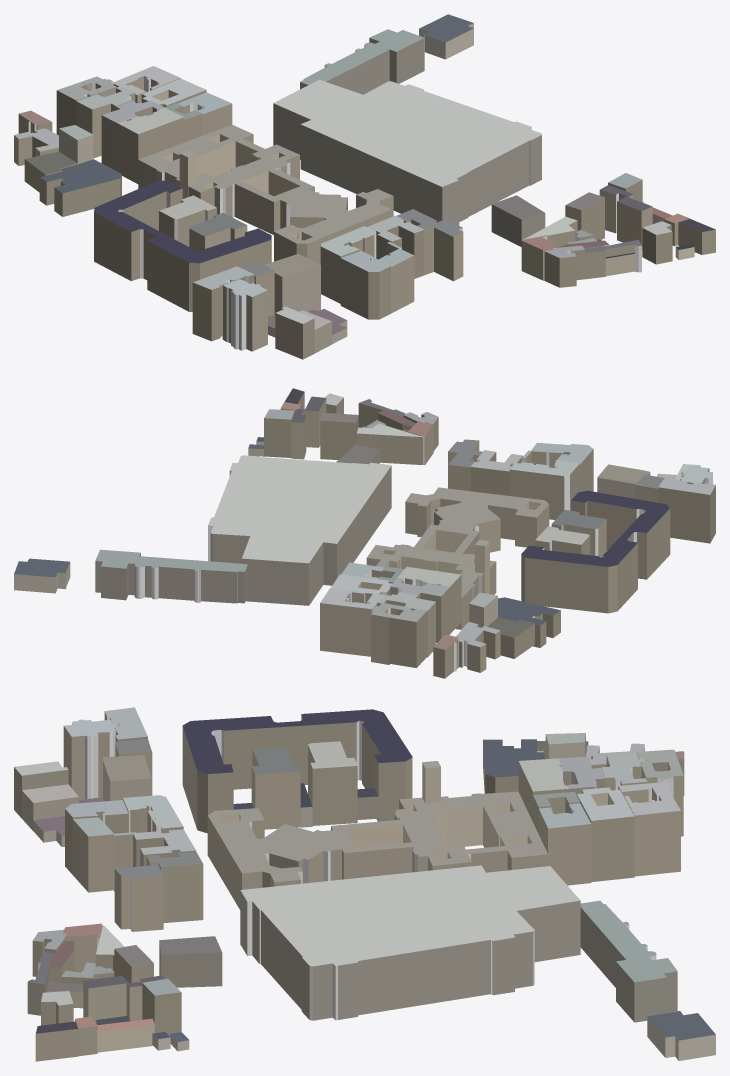
The picture shows the model from 3 angles, top to bottom: view 1: azimuth 30°, elevation 25°; view 2: azimuth 150°, elevation 25°; view 3: azimuth 270°, elevation 25°; orthographic projection. The views are drawn at different scales.
Parts seen in each view (by area): view 1: tuile; view 2: tuile; view 3: tuile.
Boxes of the visible parts, x1,y1,x2,y2 form: tuile: (14,14,715,359); tuile: (14,388,715,678); tuile: (14,707,715,1061).
Size of the model in its own units: 270 by 34.82 by 268.
